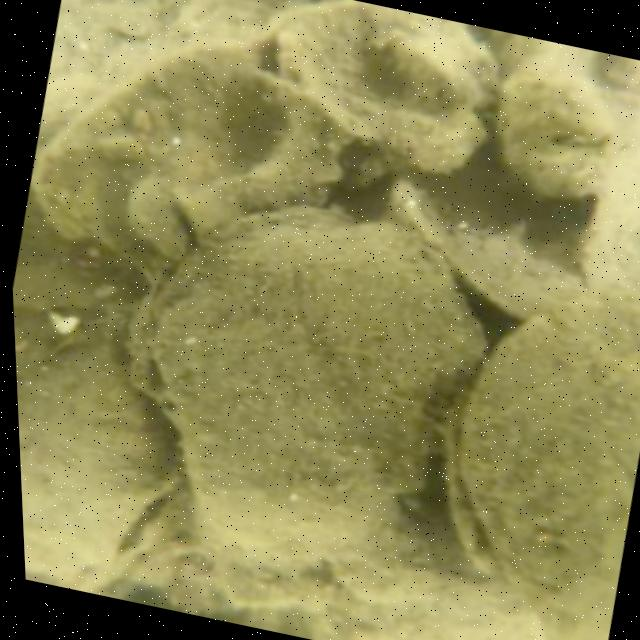Oyster-Closed: (155, 203, 488, 566)
Oyster-Indeterminate: (29, 38, 370, 295), (459, 288, 640, 640), (16, 310, 178, 580), (127, 175, 205, 259)
